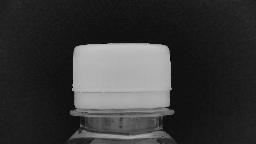Good Cap: (64, 39, 178, 121)
